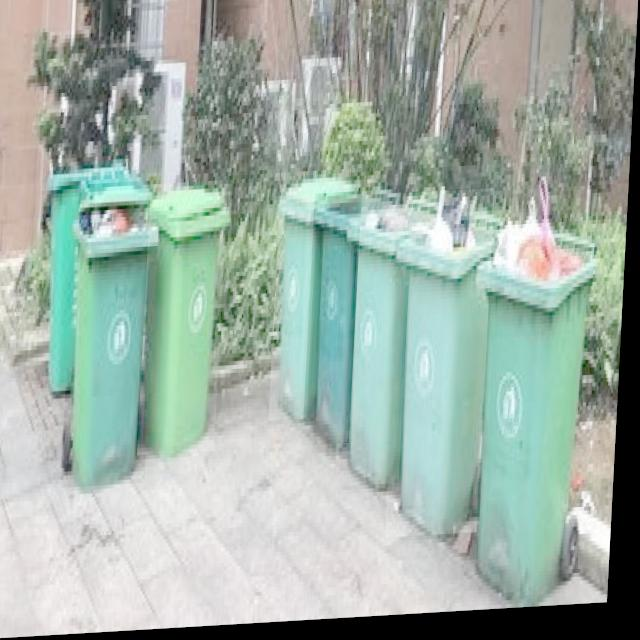garbage_bin: (142, 183, 230, 458), (274, 173, 354, 424), (307, 196, 364, 450), (39, 170, 86, 389)
overflow: (466, 177, 604, 613), (391, 194, 497, 543), (66, 182, 162, 489), (341, 209, 414, 491)
